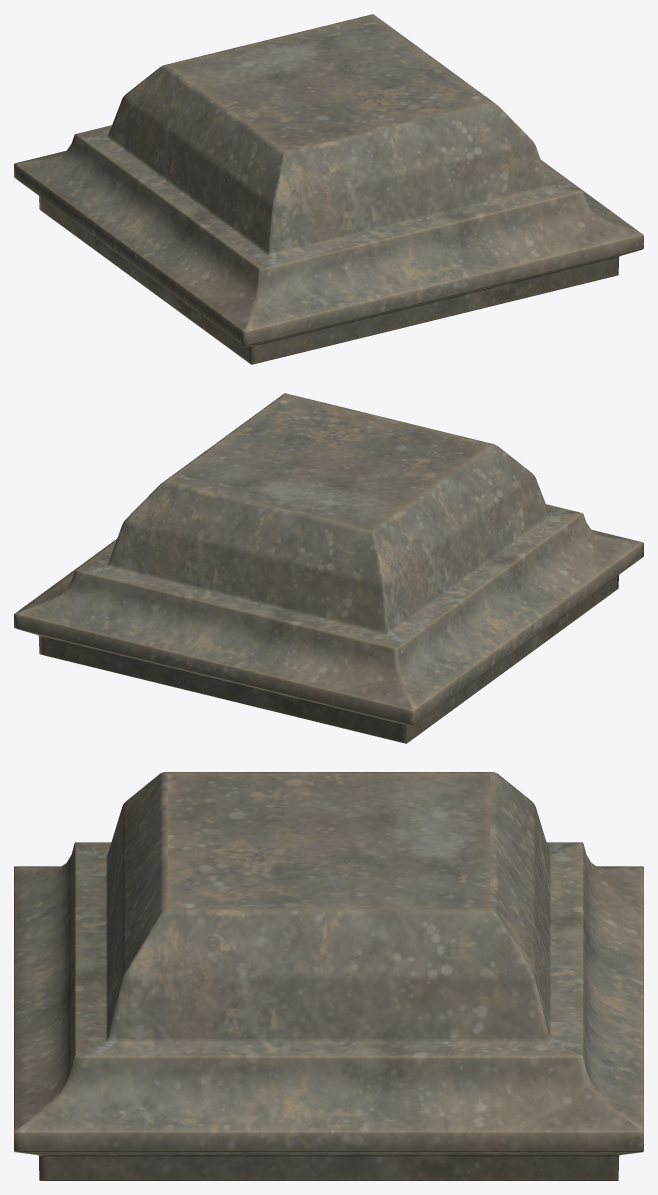
Rendered from SM_Fence01_6_LOD0.glb.
3 renders of one model, top to bottom at view 1: azimuth 30°, elevation 25°; view 2: azimuth 150°, elevation 25°; view 3: azimuth 270°, elevation 25°, orthographic. The views are drawn at different scales.
Visible parts, largest first — view 1: SM_Fence01_6_LOD0; view 2: SM_Fence01_6_LOD0; view 3: SM_Fence01_6_LOD0.
Boxes of the visible parts, box(x1,y1,x2,y2) form: SM_Fence01_6_LOD0: box(14, 14, 643, 364); SM_Fence01_6_LOD0: box(14, 393, 643, 743); SM_Fence01_6_LOD0: box(14, 772, 643, 1180).
Size of the model in its own units: 0.6903 by 0.2633 by 0.6903.
Materials: 1 (1 with a texture image).
